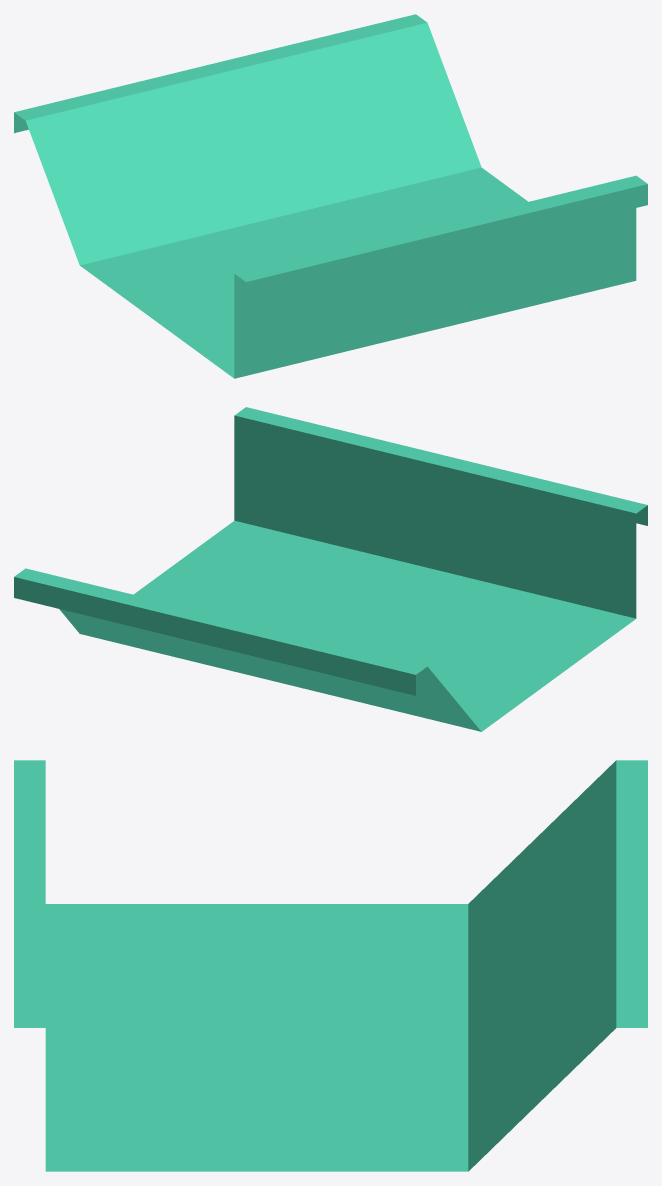
Rendered from Floor_2x2m_A.FBX.
The picture shows the model from 3 angles, top to bottom: view 1: azimuth 30°, elevation 25°; view 2: azimuth 150°, elevation 25°; view 3: azimuth 270°, elevation 25°; orthographic projection. The views are drawn at different scales.
Parts seen in each view (by area): view 1: Floor_2x2m_A; view 2: Floor_2x2m_A; view 3: Floor_2x2m_A.
Part boxes in pixels (x1,y1,x2,y2): Floor_2x2m_A: (14, 14, 647, 378); Floor_2x2m_A: (14, 407, 647, 731); Floor_2x2m_A: (14, 760, 647, 1171).
Size of the model in its own units: 200 by 50 by 200.
